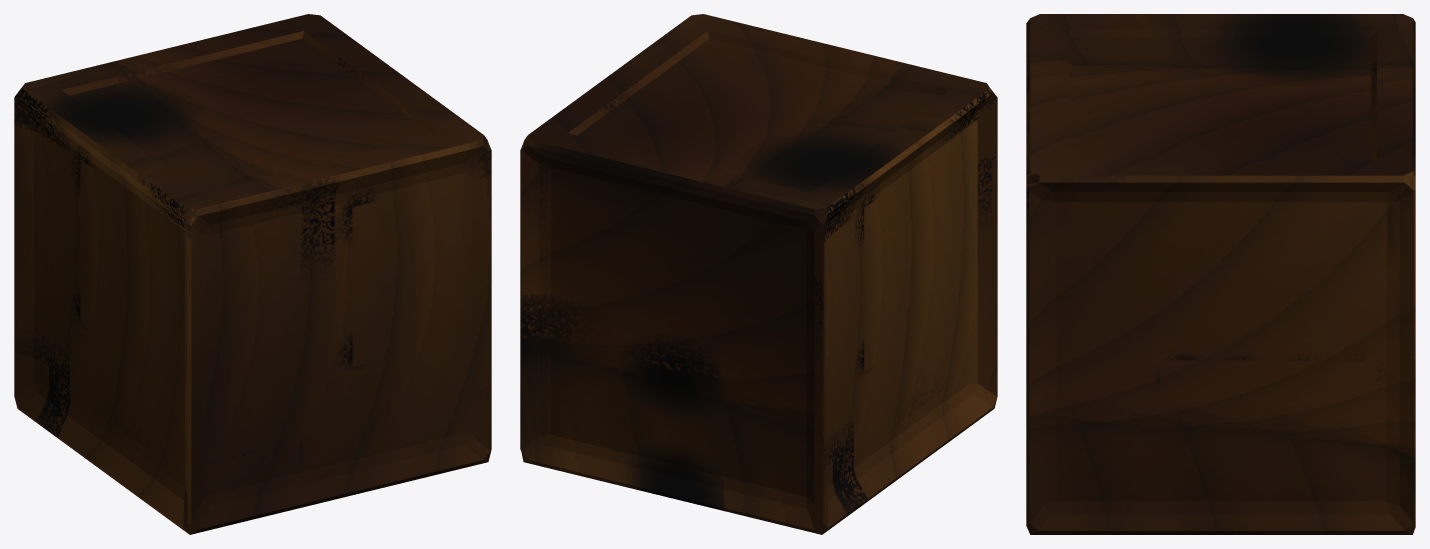
Rendered from Crate.glb.
3 views of the same model, side by side, from view 1: azimuth 30°, elevation 25°; view 2: azimuth 150°, elevation 25°; view 3: azimuth 270°, elevation 25° (orthographic). The views are drawn at different scales.
Parts seen in each view (by area): view 1: Cube; view 2: Cube; view 3: Cube.
Part boxes in pixels (bbox=[...]): Cube: bbox=[14, 14, 491, 534]; Cube: bbox=[520, 14, 997, 534]; Cube: bbox=[1026, 14, 1415, 534].
Size of the model in its own units: 1.15 by 1.17 by 1.15.
Materials: 1 (1 with a texture image).
